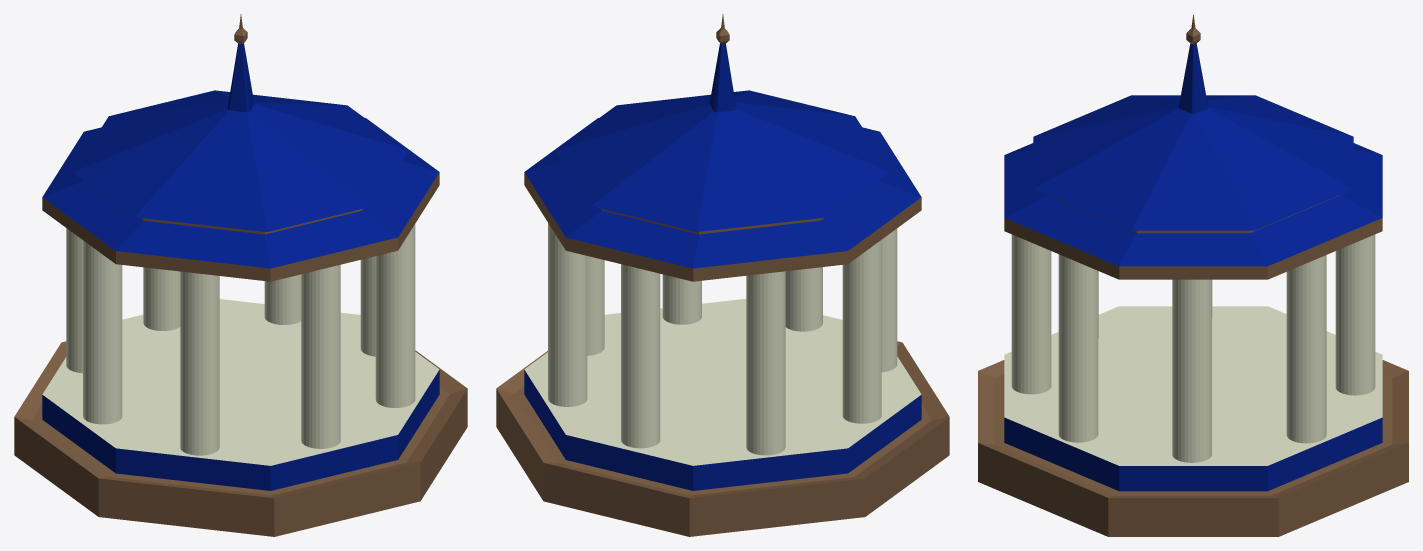
File: Stand.fbx
The picture shows the model from 3 angles, left to right: view 1: azimuth 30°, elevation 25°; view 2: azimuth 150°, elevation 25°; view 3: azimuth 270°, elevation 25°; orthographic projection.
Parts seen in each view (by area): view 1: Stand, Stand.001_cell.064, Stand.001_cell.034, Stand.001_cell.036, Stand.001_cell.157, Stand.001_cell.066, Stand.001_cell.065, Stand.001_cell.035, Stand.001_cell.037, Stand.001_cell.072, Stand.001_cell.003, Stand.001_cell.071 (+52 smaller); view 2: Stand, Stand.001_cell.035, Stand.001_cell.067, Stand.001_cell.036, Stand.001_cell.068, Stand.001_cell.066, Stand.001_cell.034, Stand.001_cell.037, Stand.001_cell.075, Stand.001_cell.052, Stand.001_cell.051, Stand.001_cell.006 (+19 smaller); view 3: Stand, Stand.001_cell.037, Stand.001_cell.036, Stand.001_cell.068, Stand.001_cell.069, Stand.001_cell.034, Stand.001_cell.162, Stand.001_cell.035, Stand.001_cell.078, Stand.001_cell.071, Stand.001_cell.070, Stand.001_cell.079 (+35 smaller).
Part boxes in pixels (x1,y1,x2,y2): Stand: (14, 14, 467, 536); Stand.001_cell.064: (201, 168, 319, 229); Stand.001_cell.034: (42, 362, 238, 432); Stand.001_cell.036: (171, 299, 276, 381); Stand.001_cell.157: (304, 352, 339, 448); Stand.001_cell.066: (78, 127, 161, 194); Stand.001_cell.065: (140, 160, 217, 224); Stand.001_cell.035: (63, 314, 240, 381); Stand.001_cell.037: (241, 312, 362, 381); Stand.001_cell.072: (218, 78, 286, 172); Stand.001_cell.003: (186, 464, 347, 523); Stand.001_cell.071: (287, 151, 390, 218); Stand: (496, 14, 949, 536); Stand.001_cell.035: (630, 382, 770, 465); Stand.001_cell.067: (644, 168, 762, 229); Stand.001_cell.036: (545, 382, 722, 460); Stand.001_cell.068: (573, 146, 675, 218); Stand.001_cell.066: (747, 155, 859, 224); Stand.001_cell.034: (723, 382, 884, 456); Stand.001_cell.037: (524, 352, 721, 413); Stand.001_cell.075: (678, 111, 746, 173); Stand.001_cell.052: (545, 188, 649, 252); Stand.001_cell.051: (631, 222, 770, 260); Stand.001_cell.006: (617, 470, 776, 493); Stand: (978, 14, 1408, 536); Stand.001_cell.037: (1193, 394, 1324, 478); Stand.001_cell.036: (1212, 386, 1382, 453); Stand.001_cell.068: (1258, 137, 1353, 209); Stand.001_cell.069: (1193, 166, 1303, 230); Stand.001_cell.034: (1212, 306, 1286, 376); Stand.001_cell.162: (1172, 364, 1206, 462); Stand.001_cell.035: (1212, 331, 1382, 385); Stand.001_cell.078: (1129, 78, 1193, 175); Stand.001_cell.071: (1033, 137, 1121, 207); Stand.001_cell.070: (1084, 165, 1174, 230); Stand.001_cell.079: (1101, 76, 1188, 165).
Size of the model in its own units: 1000 by 1106 by 1000.
